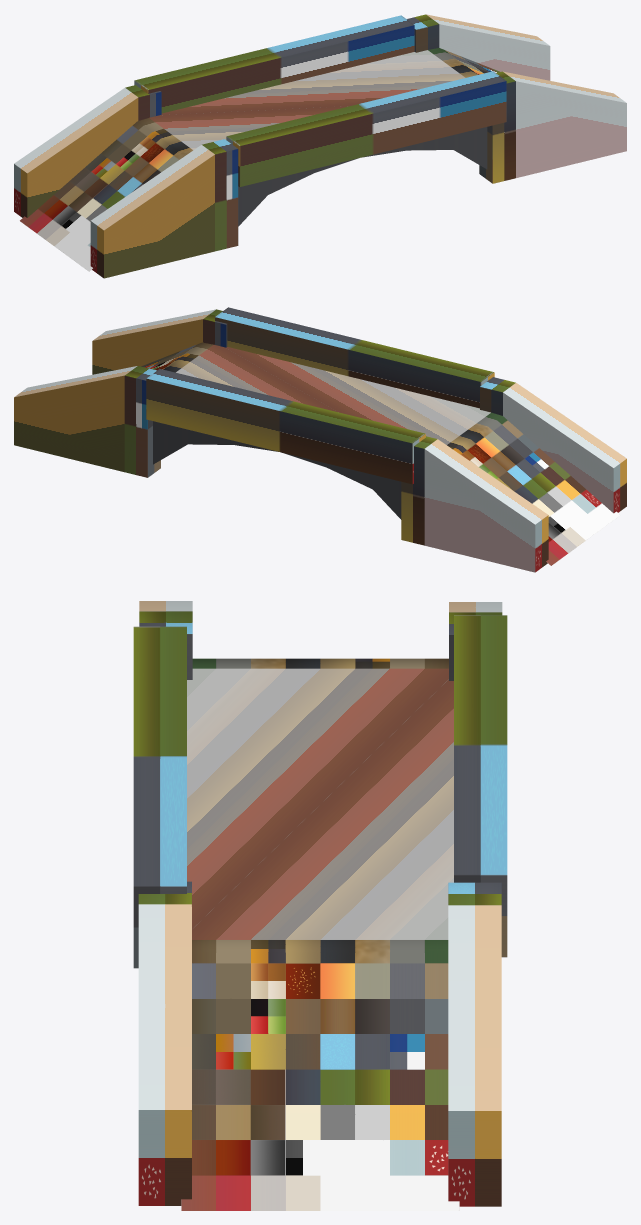
Rendered from Bridge_2_Phys.fbx.
3 renders of one model, top to bottom at view 1: azimuth 30°, elevation 25°; view 2: azimuth 150°, elevation 25°; view 3: azimuth 270°, elevation 25°, orthographic. The views are drawn at different scales.
Visible parts, largest first — view 1: polySurface10630; view 2: polySurface10630; view 3: polySurface10630.
Boxes of the visible parts, left/top/right/bottom form: polySurface10630: left=14, top=14, right=626, bottom=278; polySurface10630: left=14, top=307, right=626, bottom=572; polySurface10630: left=133, top=601, right=507, bottom=1210.
Bounding box in the file's own units: 1148 × 208 × 350.
